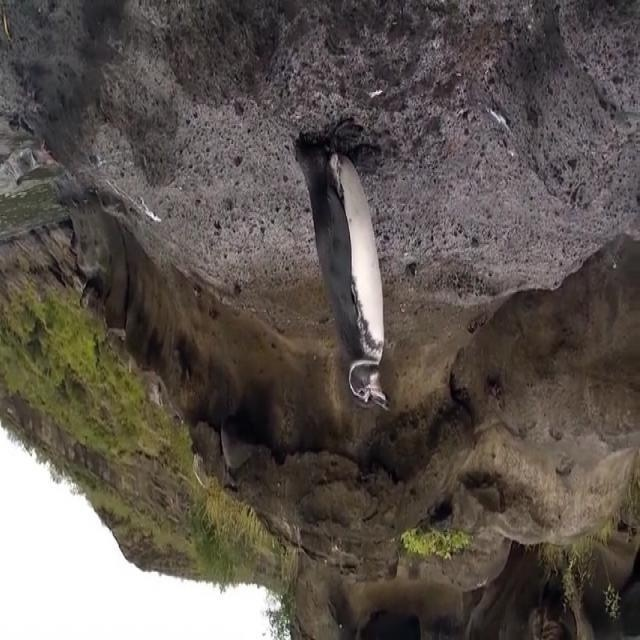penguin: (289, 121, 392, 414)
